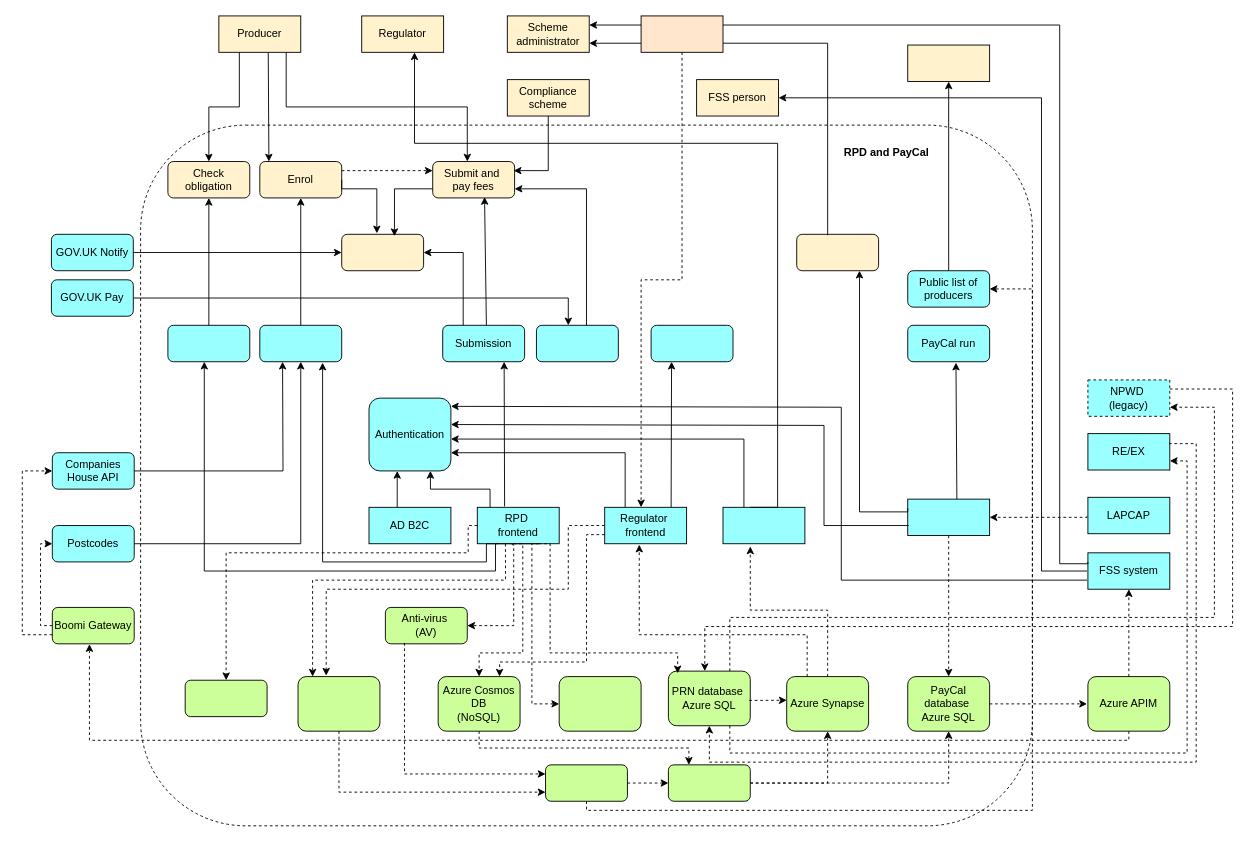
Some shapes in this 1256 by 842 pixel diagram are drawn without their labels. Each missing label, with the box of its shape:
Accounts database Azure SQL: (297, 676, 380, 731)
Approve: (341, 233, 424, 271)
Azure Blob Storage: (545, 764, 627, 801)
Defra Core users: (640, 15, 723, 52)
Enrolment: (259, 324, 342, 362)
Fee payments database Azure SQL: (558, 676, 641, 731)
General public: (907, 44, 990, 81)
Obligation checker: (167, 324, 250, 362)
PayCal: (907, 498, 990, 536)
Payment: (536, 324, 618, 362)
PySpark Azure pipeline: (667, 764, 750, 801)
Record retrieval: (650, 324, 733, 362)
Redis cache: (184, 679, 267, 717)
Reporting frontend (Power BI): (722, 506, 805, 544)
Run PayCal: (796, 233, 879, 271)
